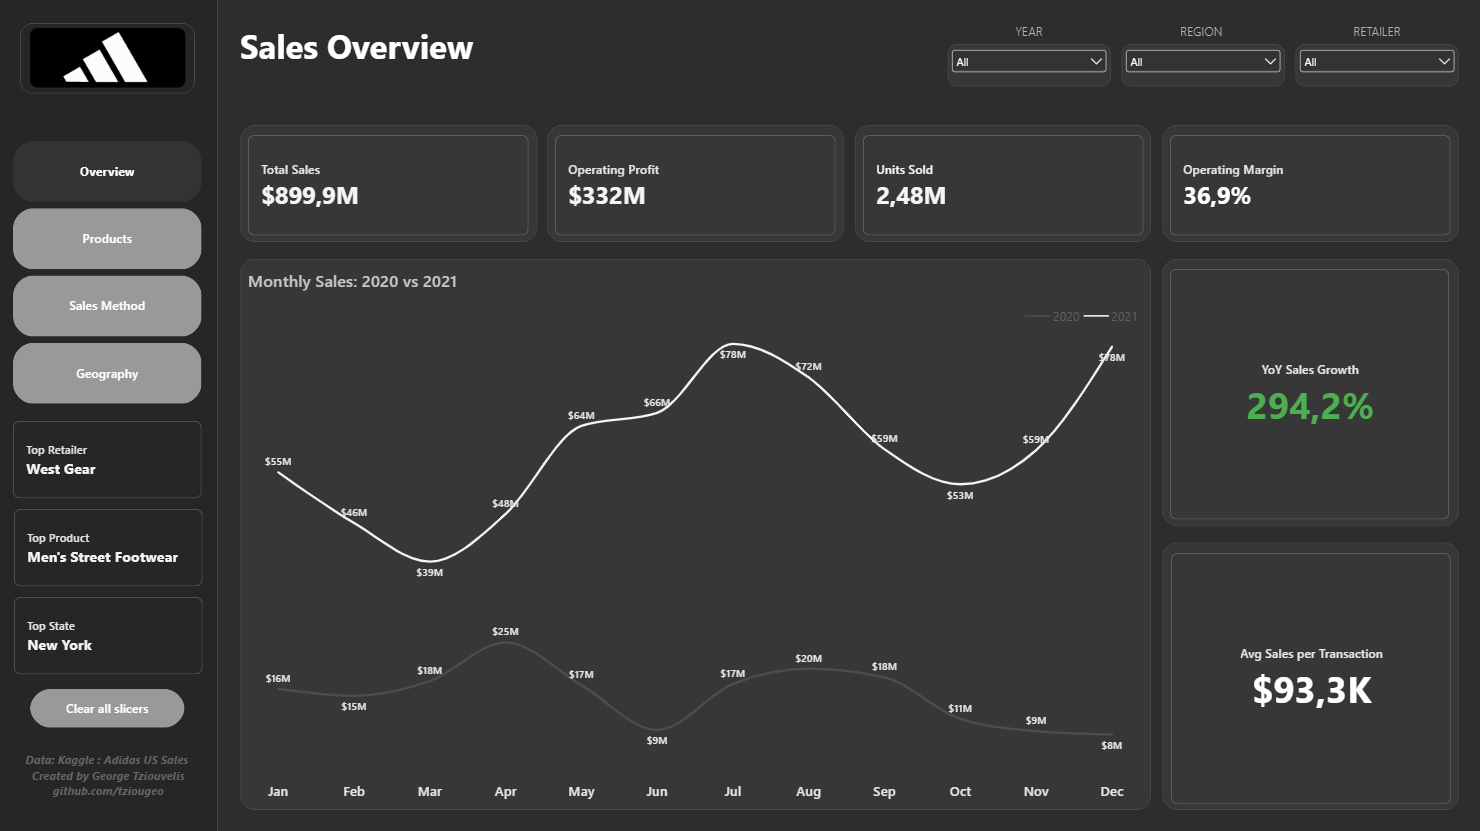

The dashboard page shown, as its layout file describes it:
{"tool":"powerbi","page":{"name":"Overview","canvas":[1920,1080],"ordinal":0},"visuals":[{"type":"cardVisual","fields":{"Data":["Measuress.Total Sales"]},"box":[325,175,363,130],"z":0},{"type":"cardVisual","fields":{"Data":["Measuress.Margin %"]},"box":[1518,175.1,363,130],"z":1000},{"type":"cardVisual","fields":{"Data":["Measuress.Units Sold"]},"box":[1120,175.1,363,130],"z":2000},{"type":"cardVisual","fields":{"Data":["Measuress.Operating Profit"]},"box":[722,175.1,363,130],"z":3000},{"type":"cardVisual","fields":{"Data":["Measuress.YoY Growth %"]},"box":[1518,348,361,324],"z":4000},{"type":"cardVisual","fields":{"Data":["Measuress.Avg Sales per Line"]},"box":[1518.8,715,362,325],"z":5000},{"type":"lineChart","title":"\tMonthly Sales: 2020 vs 2021","fields":{"Category":["Date.Month"],"Series":["Date.Year"],"Y":["Measuress.Total Sales"]},"box":[325,348,1157,692],"z":6000},{"type":"image","box":[42.3,36.5,201.3,77.3],"z":7000},{"type":"slicer","title":"YEAR","fields":{"Values":["Date.Year"]},"box":[1230,60,210,54],"z":8000},{"type":"slicer","fields":{"Values":["Data Sales Adidas.Region"]},"box":[1455,60,210,54],"z":9000},{"type":"slicer","fields":{"Values":["Data Sales Adidas.Retailer"]},"box":[1680,60,210,54],"z":10000},{"type":"textbox","box":[1230,30,210,28],"z":11000},{"type":"textbox","box":[1455,30,210,28],"z":12000},{"type":"textbox","box":[1680,30,210,28],"z":13000},{"type":"pageNavigator","box":[21,183,244.3,343.2],"z":14000},{"type":"textbox","box":[315,30.2,840.7,73.3],"z":15000},{"type":"textbox","box":[21.6,972.9,244.3,80.5],"z":16000},{"type":"actionButton","box":[43.1,891,200,50],"z":17000},{"type":"cardVisual","fields":{"Data":["Measuress.Top Retailer"]},"box":[21,545,244,100],"z":17001},{"type":"cardVisual","fields":{"Data":["Measuress.Top Product"]},"box":[22,659,244,100],"z":17002},{"type":"cardVisual","fields":{"Data":["Measuress.Top State"]},"box":[22,773,244.5,100],"z":17003}]}

Visuals, with their boxes in screenshot pixels (x1, y1, x2, y2), scaled from the page's 1920x1080 canvas onto the 1480x831 screenshot:
cardVisual - Measuress.Total Sales: {"x1": 251, "y1": 135, "x2": 530, "y2": 235}
cardVisual - Measuress.Margin %: {"x1": 1170, "y1": 135, "x2": 1450, "y2": 235}
cardVisual - Measuress.Units Sold: {"x1": 863, "y1": 135, "x2": 1143, "y2": 235}
cardVisual - Measuress.Operating Profit: {"x1": 557, "y1": 135, "x2": 836, "y2": 235}
cardVisual - Measuress.YoY Growth %: {"x1": 1170, "y1": 268, "x2": 1448, "y2": 517}
cardVisual - Measuress.Avg Sales per Line: {"x1": 1171, "y1": 550, "x2": 1450, "y2": 800}
"	Monthly Sales: 2020 vs 2021" lineChart: {"x1": 251, "y1": 268, "x2": 1142, "y2": 800}
image: {"x1": 33, "y1": 28, "x2": 188, "y2": 88}
"YEAR" slicer: {"x1": 948, "y1": 46, "x2": 1110, "y2": 88}
slicer - Data Sales Adidas.Region: {"x1": 1122, "y1": 46, "x2": 1283, "y2": 88}
slicer - Data Sales Adidas.Retailer: {"x1": 1295, "y1": 46, "x2": 1457, "y2": 88}
textbox: {"x1": 948, "y1": 23, "x2": 1110, "y2": 45}
textbox: {"x1": 1122, "y1": 23, "x2": 1283, "y2": 45}
textbox: {"x1": 1295, "y1": 23, "x2": 1457, "y2": 45}
pageNavigator: {"x1": 16, "y1": 141, "x2": 205, "y2": 405}
textbox: {"x1": 243, "y1": 23, "x2": 891, "y2": 80}
textbox: {"x1": 17, "y1": 749, "x2": 205, "y2": 811}
actionButton: {"x1": 33, "y1": 686, "x2": 187, "y2": 724}
cardVisual - Measuress.Top Retailer: {"x1": 16, "y1": 419, "x2": 204, "y2": 496}
cardVisual - Measuress.Top Product: {"x1": 17, "y1": 507, "x2": 205, "y2": 584}
cardVisual - Measuress.Top State: {"x1": 17, "y1": 595, "x2": 205, "y2": 672}
